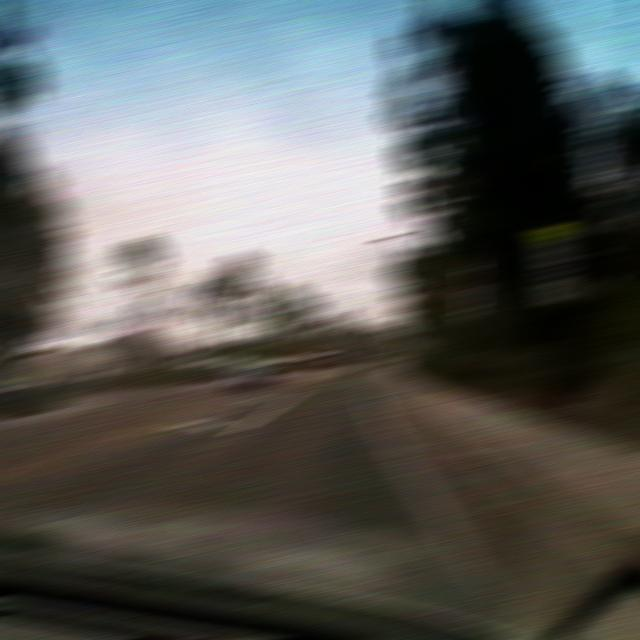speedLimit25: (532, 222, 575, 300)
